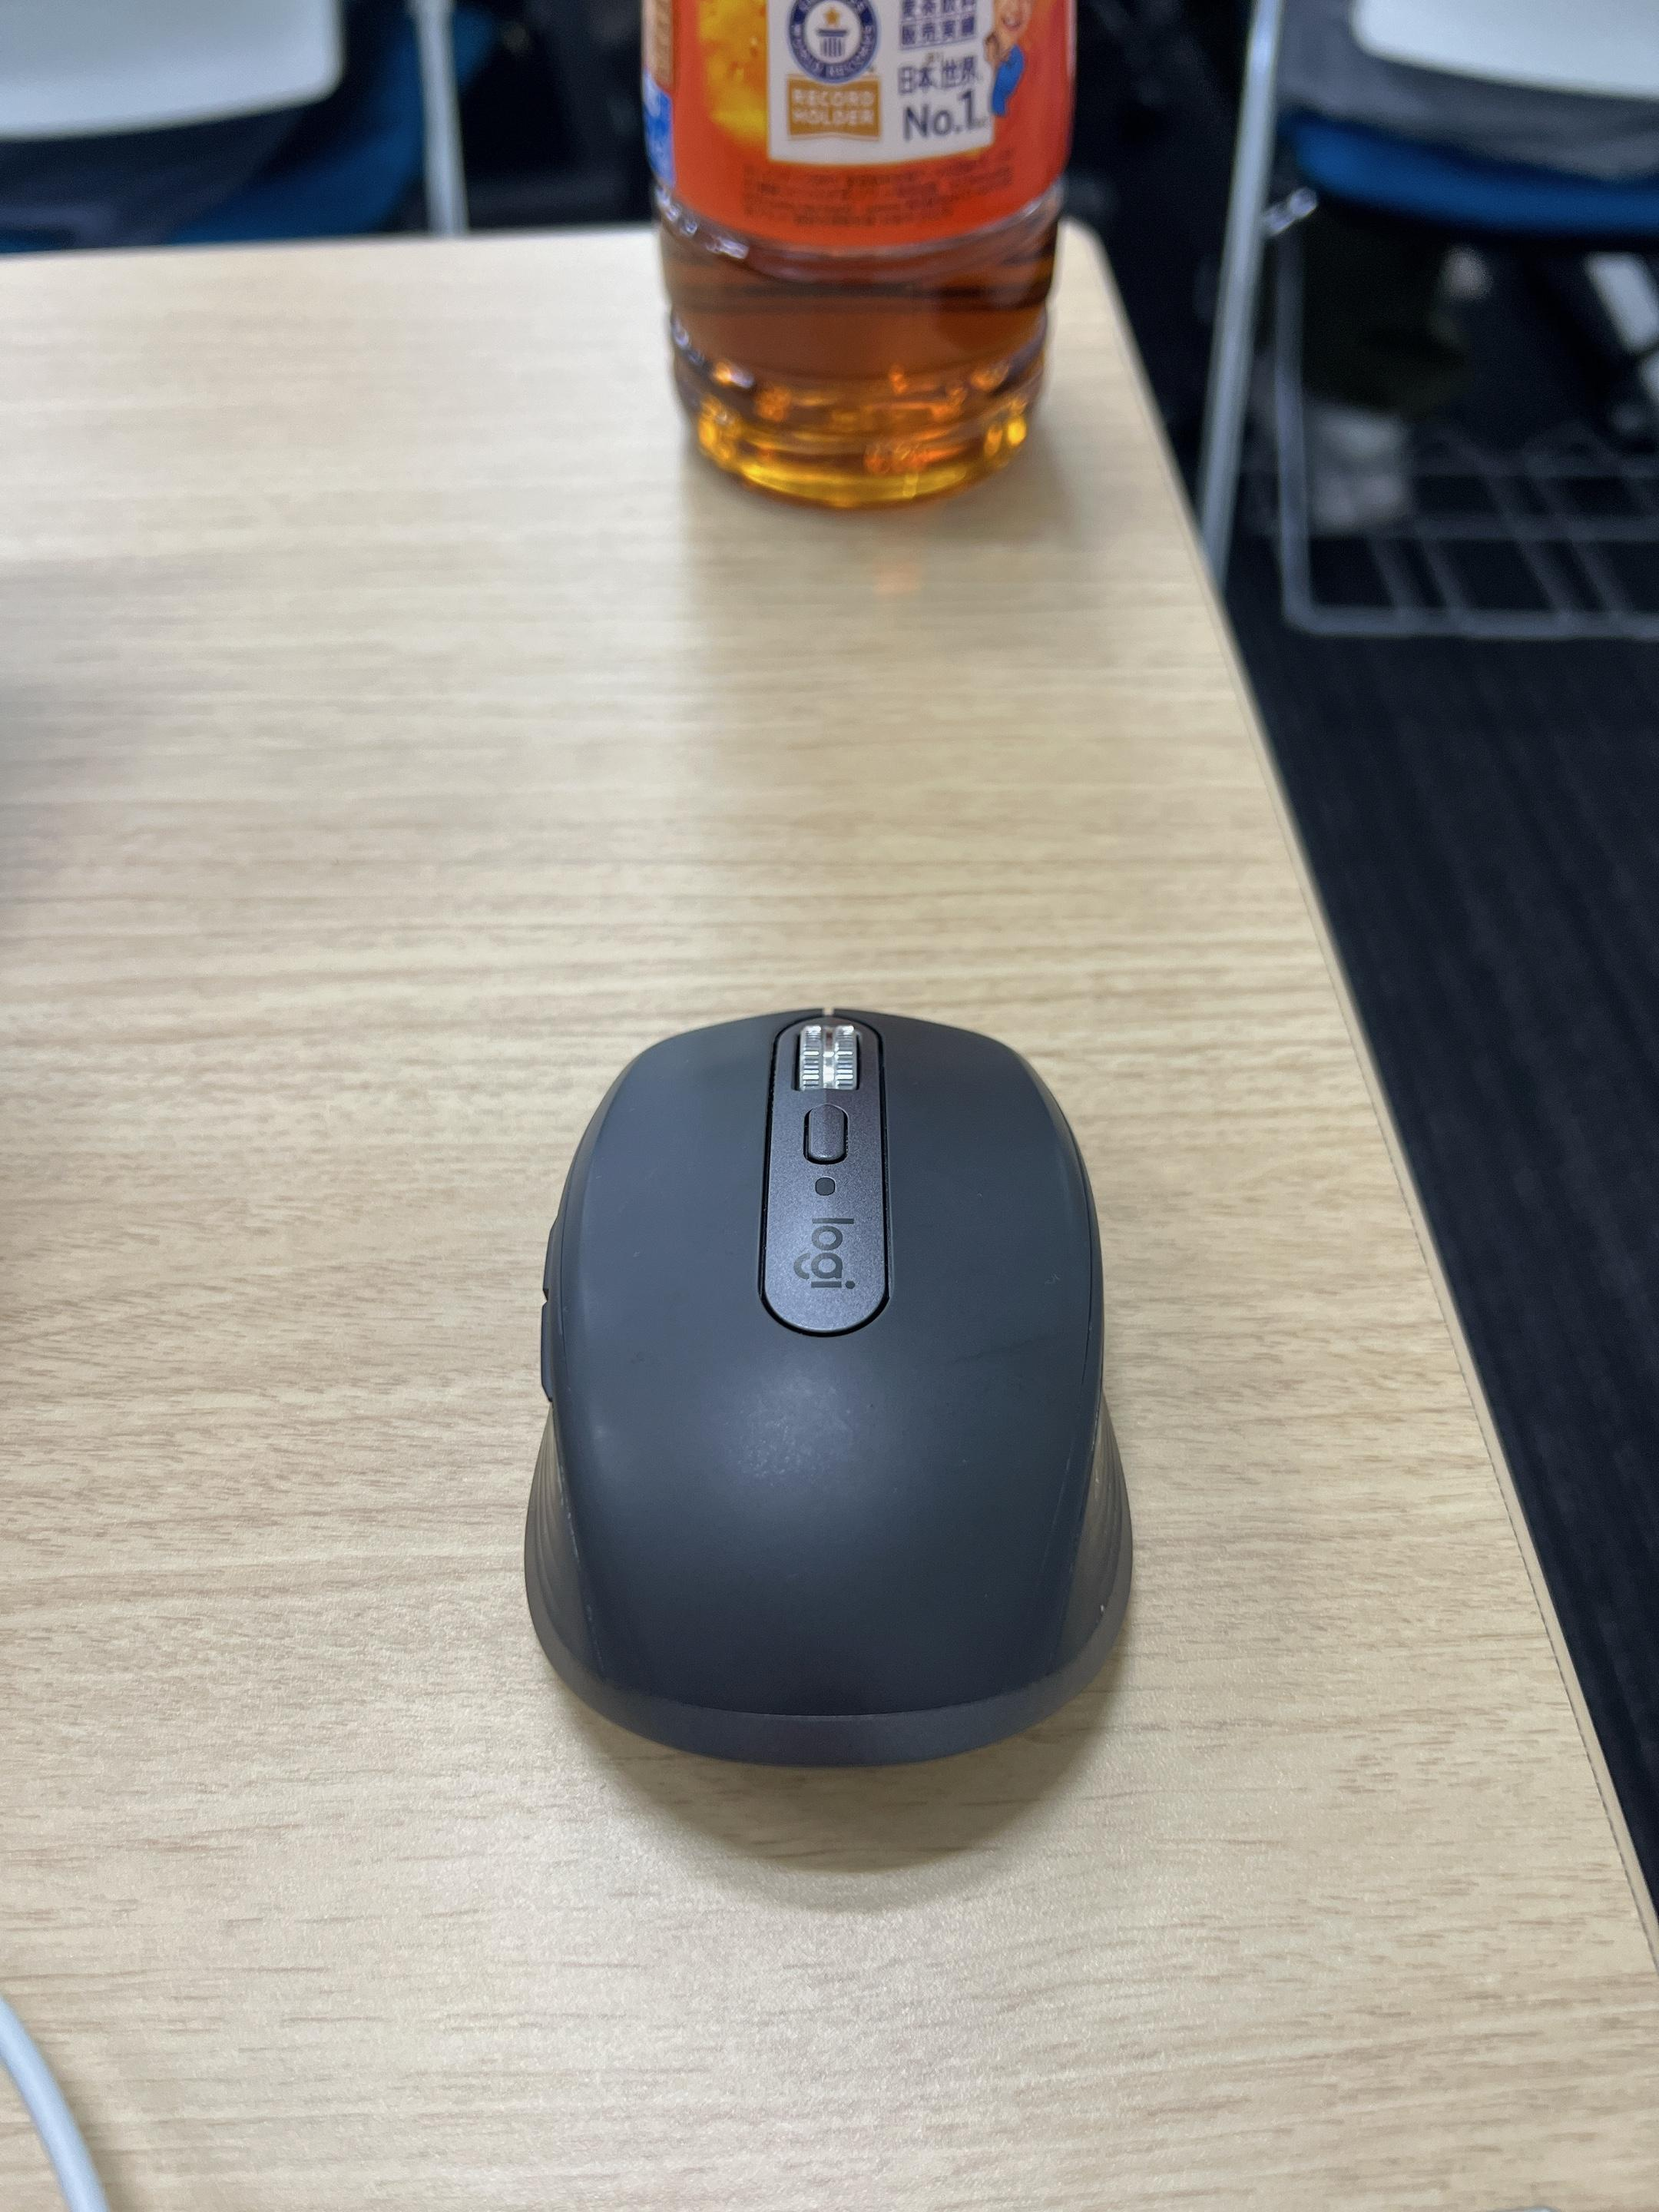mouse: (547, 993, 1110, 1813)
